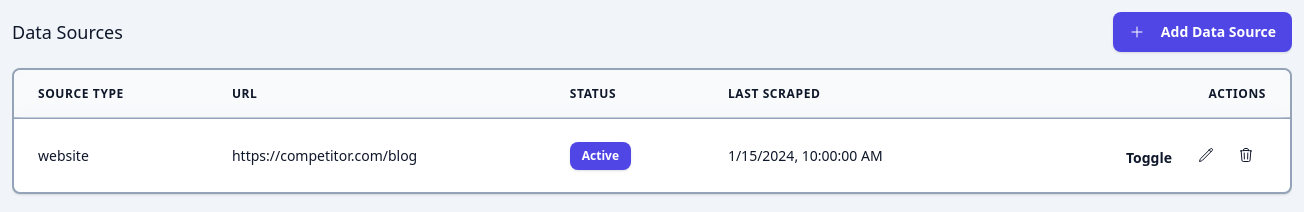
Test: DataSourcesManager Component › should toggle data source active status
Expected: the text "Active" is shown, [570,142,631,170]
// Click toggle button
Click the button "Toggle": coordinates (1149, 158) [1112,140,1186,176]
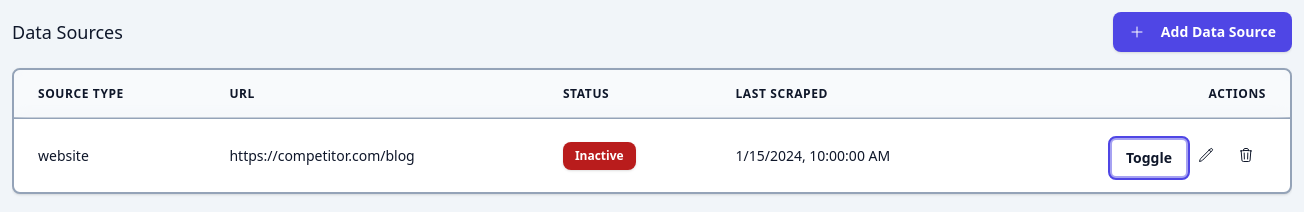
Expected: the text "Inactive" is shown, [563,142,636,170]
